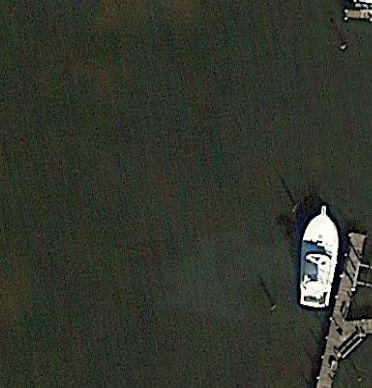Ships: (292, 195, 343, 313)
